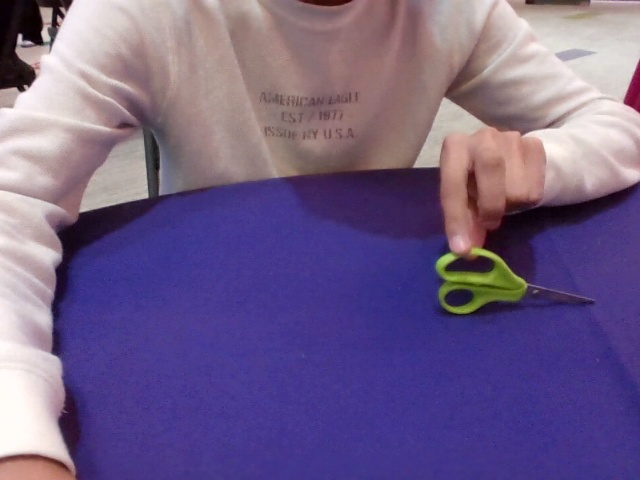tijeras: (435, 246, 596, 316)
